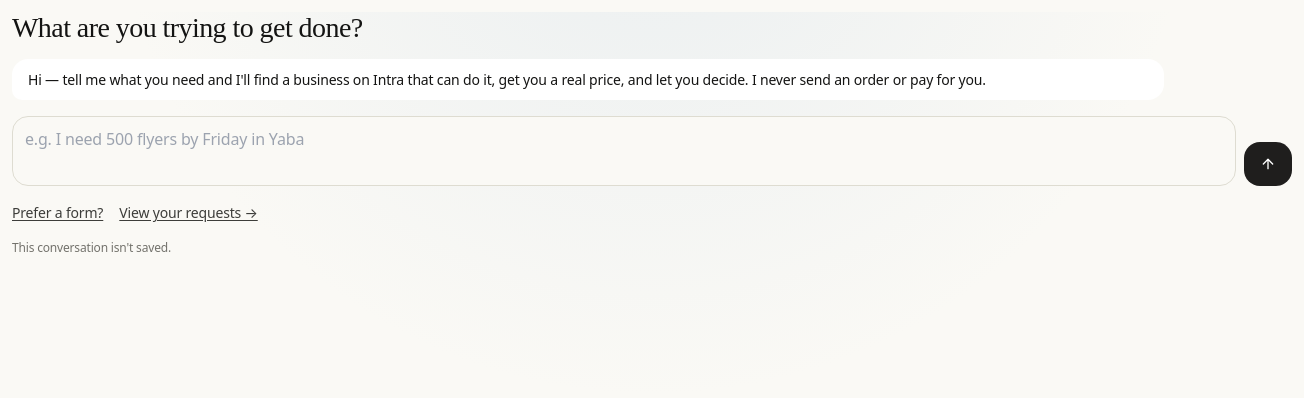
Test case: ConversationView › 'Prefer a form?' secondary mode (frontend audit D6 / Priority 4) › hides the toggle once a conversation is underway
Type "200 flyers" into the text box named "message".
click(624, 151); type("200 flyers")  # box [12, 116, 1236, 186]
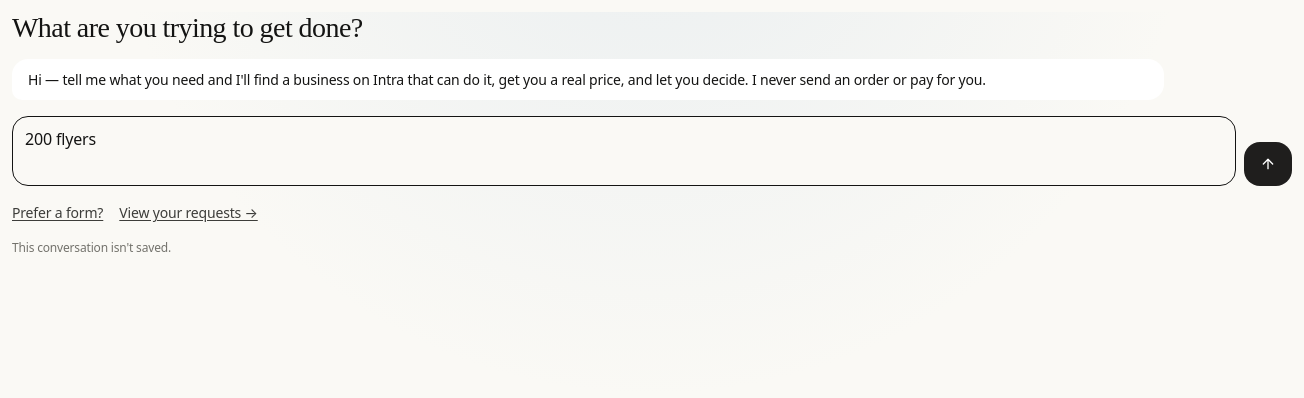
Click the button named "send".
click(1268, 164)  # box [1244, 142, 1292, 186]
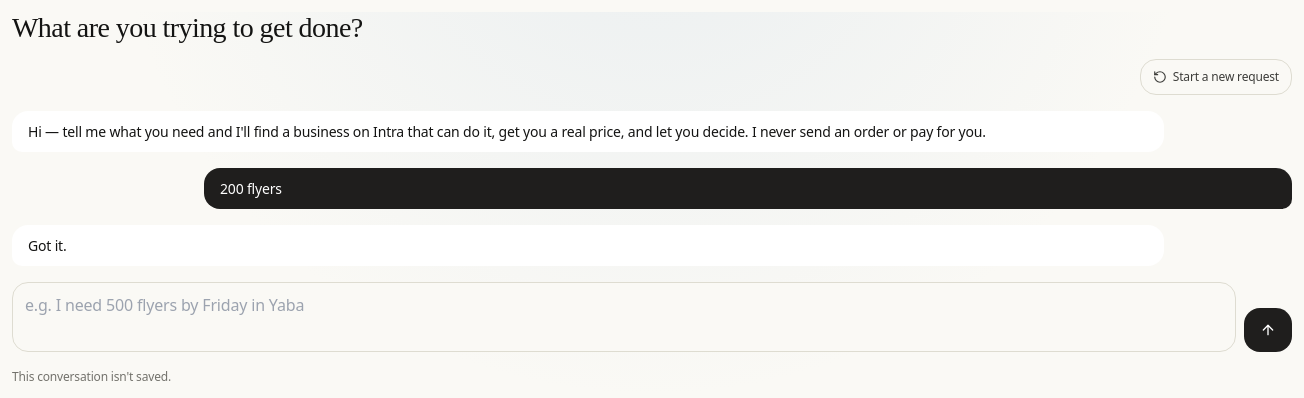
Expected: the text "Got it." is shown, [12, 225, 1164, 266]
Expected: the button "Prefer a form" is gone
Expected: the link "View your requests" is gone
